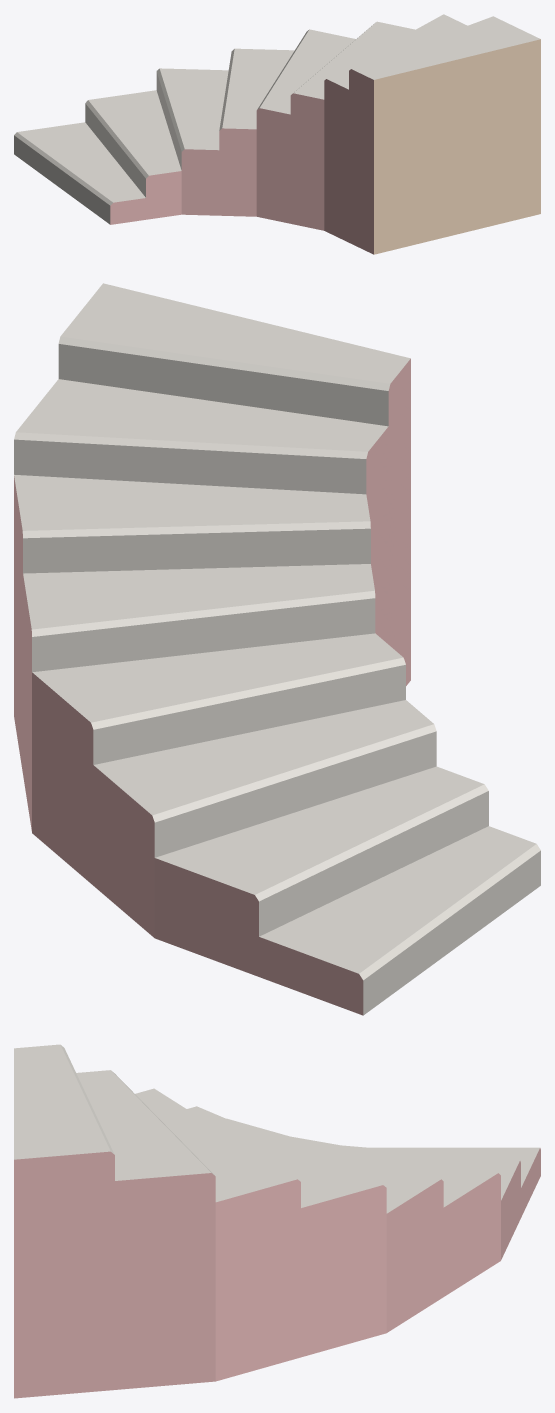
Rendered from Tiered_Walkway_Steps_Curve_Short_2x2.glb.
The picture shows the model from 3 angles, top to bottom: view 1: azimuth 30°, elevation 25°; view 2: azimuth 150°, elevation 25°; view 3: azimuth 270°, elevation 25°; orthographic projection. The views are drawn at different scales.
Parts seen in each view (by area): view 1: Tiered_Walkway_Steps_Curve_Short_2x2; view 2: Tiered_Walkway_Steps_Curve_Short_2x2; view 3: Tiered_Walkway_Steps_Curve_Short_2x2.
Part boxes in pixels (x1,y1,x2,y2): Tiered_Walkway_Steps_Curve_Short_2x2: (14,14,540,254); Tiered_Walkway_Steps_Curve_Short_2x2: (14,283,540,1015); Tiered_Walkway_Steps_Curve_Short_2x2: (14,1044,540,1398).
Bounding box in the file's own units: 200 × 100 × 200.
